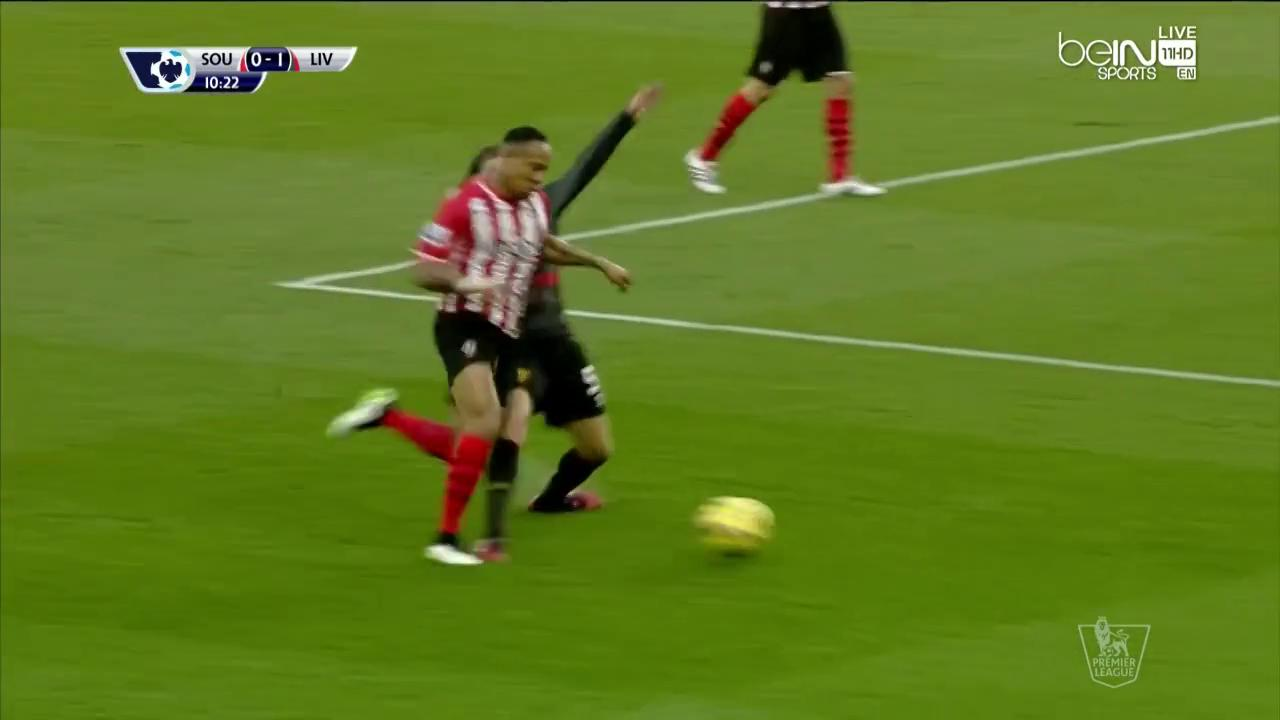football: (696, 486, 778, 565)
